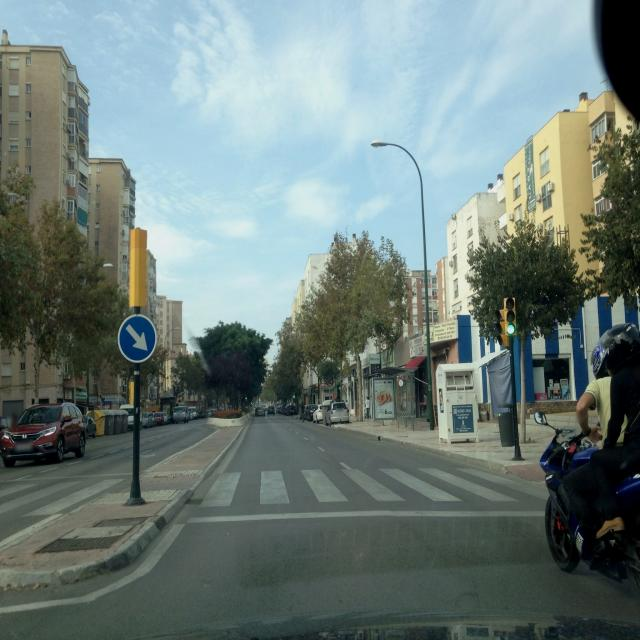bike: (537, 376, 640, 604)
car: (1, 402, 87, 468), (325, 400, 350, 426), (120, 404, 142, 428), (313, 402, 331, 423), (172, 406, 188, 423), (303, 404, 318, 421), (142, 412, 154, 428), (152, 412, 165, 426), (188, 407, 199, 419), (286, 404, 297, 416), (266, 404, 276, 416), (254, 406, 266, 416)
